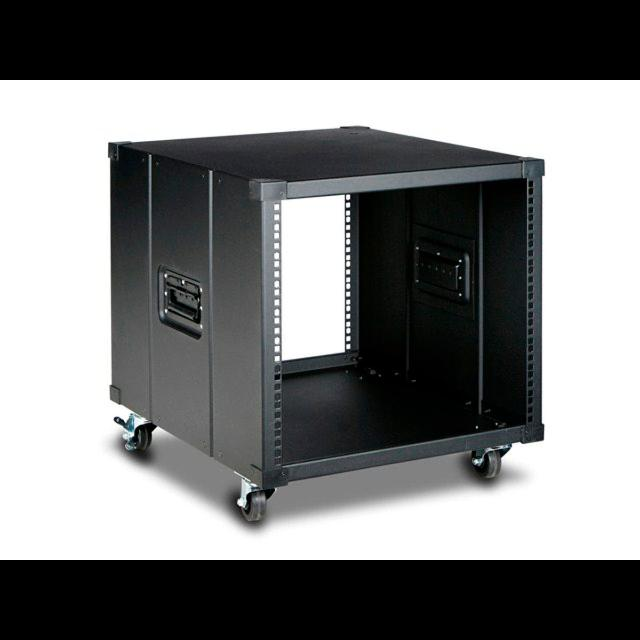Server: (99, 122, 555, 536)
